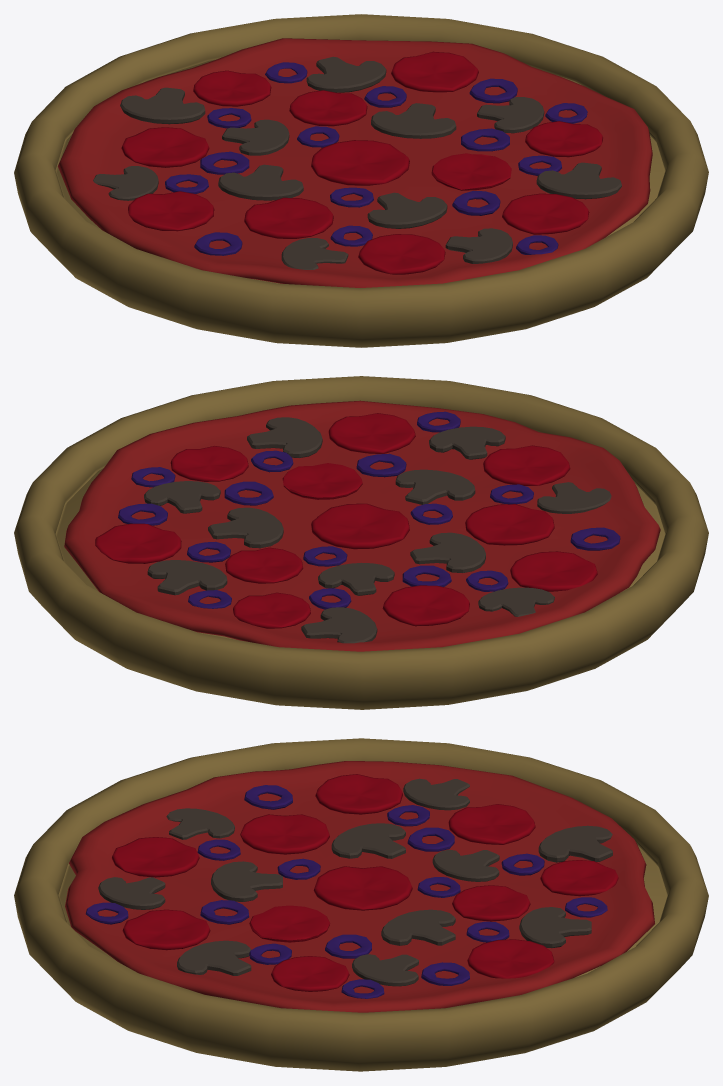
File: Pizza_2.FBX
The picture shows the model from 3 angles, top to bottom: view 1: azimuth 30°, elevation 25°; view 2: azimuth 150°, elevation 25°; view 3: azimuth 270°, elevation 25°; orthographic projection.
Parts seen in each view (by area): view 1: Pizza_2; view 2: Pizza_2; view 3: Pizza_2.
Part boxes in pixels (x1,y1,x2,y2): Pizza_2: [14, 14, 708, 347]; Pizza_2: [14, 376, 708, 709]; Pizza_2: [14, 738, 708, 1071].
Bounding box in the file's own units: 1025 × 1026 × 94.89.
